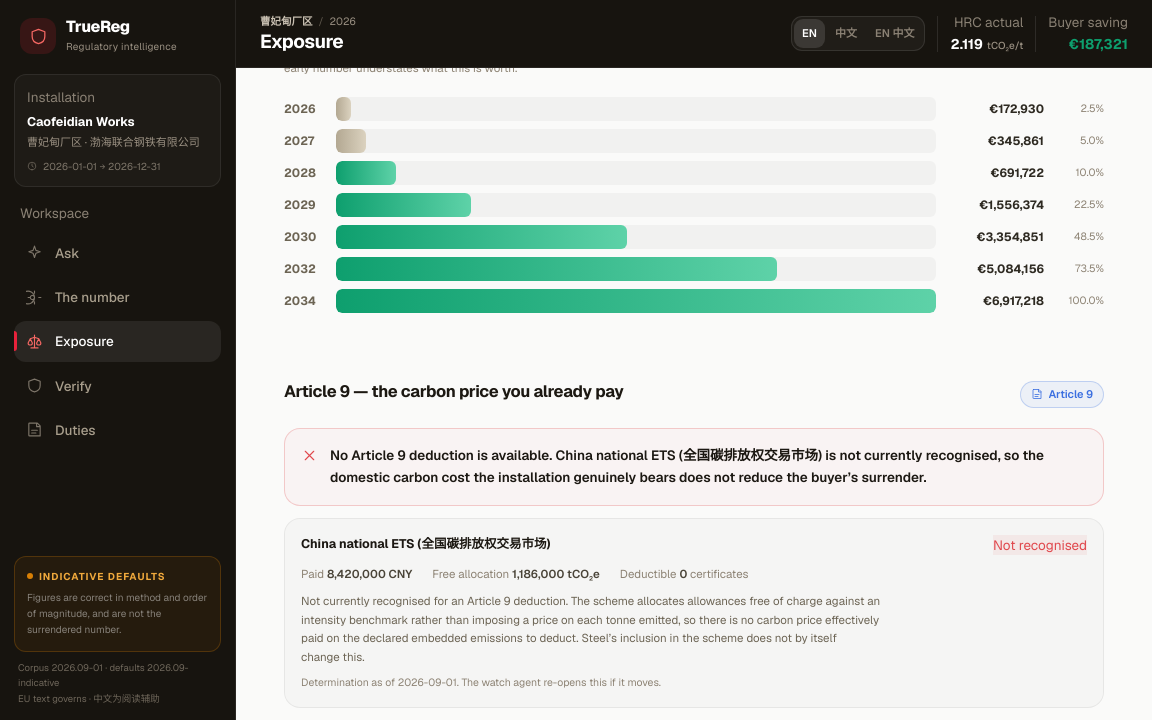
Test: the TrueReg workspace › puts the authentic clause one tap from any assertion
This screenshot has width=1152, height=720.
(page scrolled)
Click the button "Article 9" at (1062, 394), box [1020,381,1104,408]
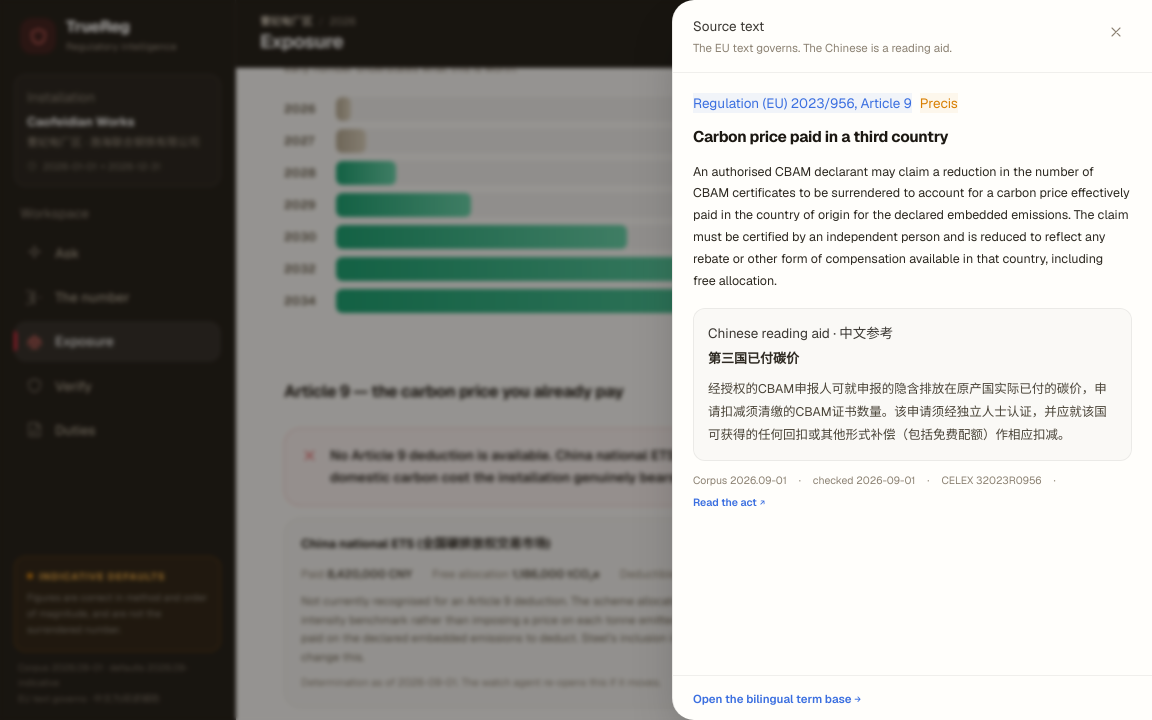
expect the text "Chinese reading aid · 中文参考" is shown: met, box [708,324,893,342]
expect the text "CELEX 32023R0956" is shown: met, box [941,473,1042,489]
